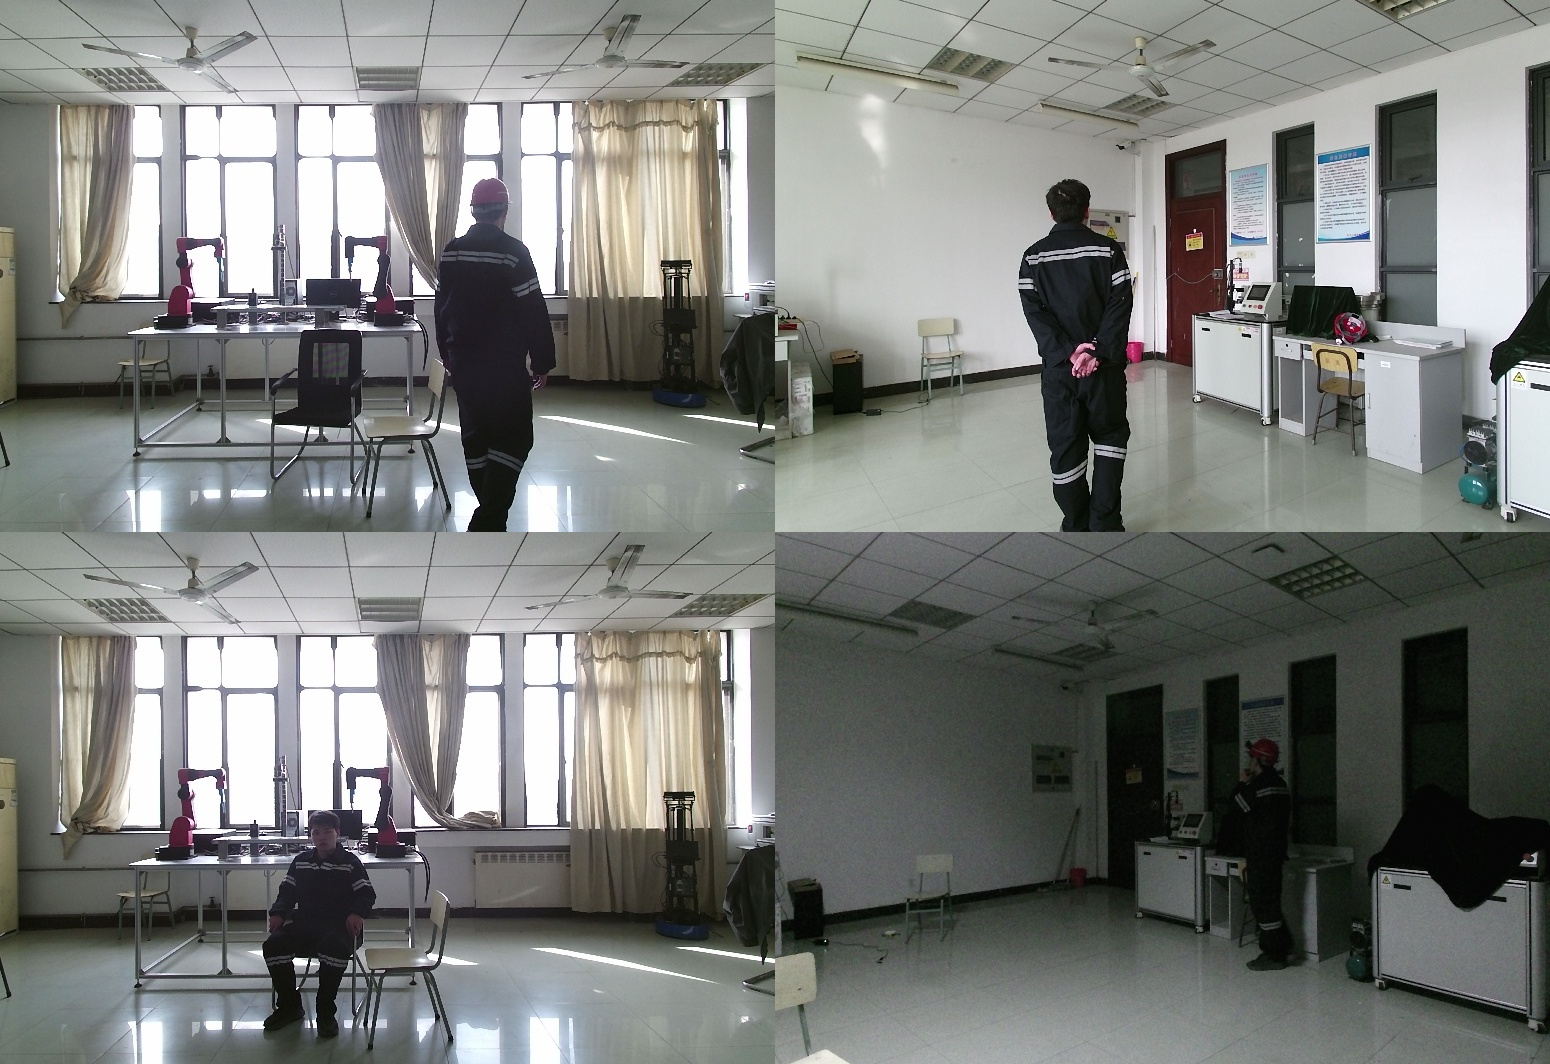person: (1015, 178, 1147, 532), (434, 178, 564, 532), (261, 812, 383, 1030), (1224, 740, 1301, 972)
